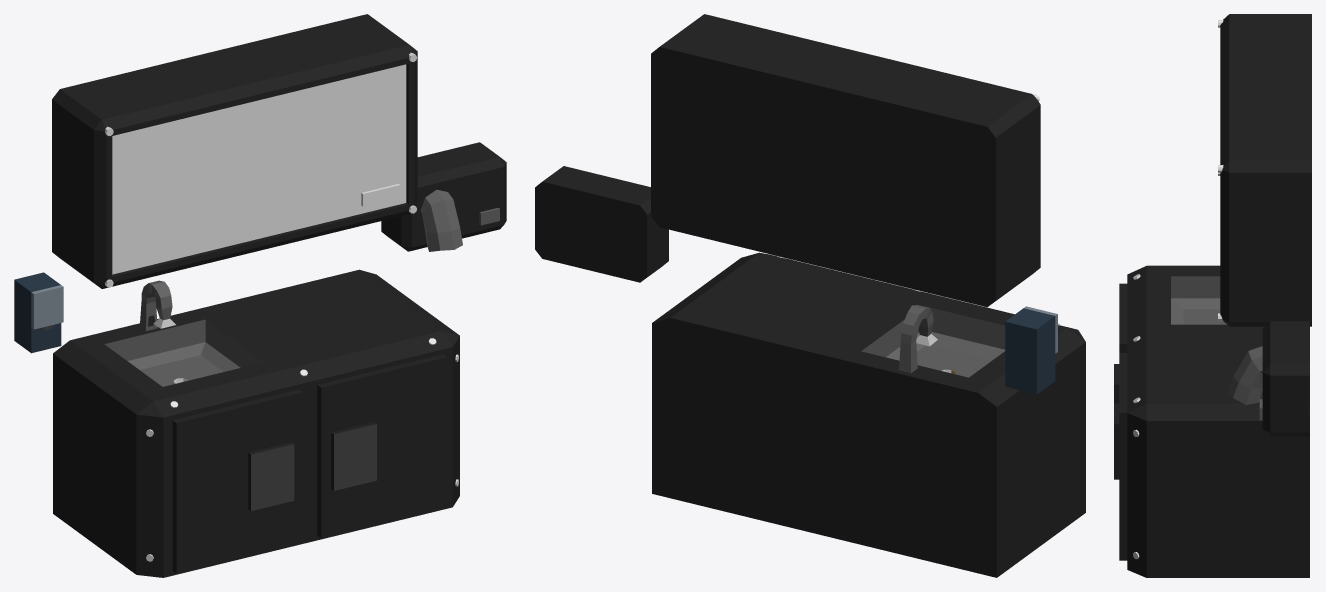
Rendered from Bathroom-Cabinet-2.fbx.
3 renders of one model, left to right at view 1: azimuth 30°, elevation 25°; view 2: azimuth 150°, elevation 25°; view 3: azimuth 270°, elevation 25°, orthographic. The views are drawn at different scales.
Parts seen in each view (by area): view 1: Bathroom-Cabinet, Mirror-1, Hand-Dryer, Soap-1; view 2: Bathroom-Cabinet, Mirror-1, Hand-Dryer, Soap-1; view 3: Bathroom-Cabinet, Mirror-1, Hand-Dryer.
Part boxes in pixels (box(x1,y1,x2,y2)): Bathroom-Cabinet: box(53, 269, 459, 577); Mirror-1: box(52, 14, 417, 288); Hand-Dryer: box(381, 142, 506, 251); Soap-1: box(14, 272, 63, 353); Bathroom-Cabinet: box(652, 252, 1085, 577); Mirror-1: box(651, 14, 1040, 307); Hand-Dryer: box(535, 166, 668, 282); Soap-1: box(1005, 306, 1057, 394); Bathroom-Cabinet: box(1114, 265, 1309, 577); Mirror-1: box(1218, 14, 1311, 326); Hand-Dryer: box(1227, 321, 1309, 436).
Size of the model in its own units: 3.76 by 3.21 by 1.39.
